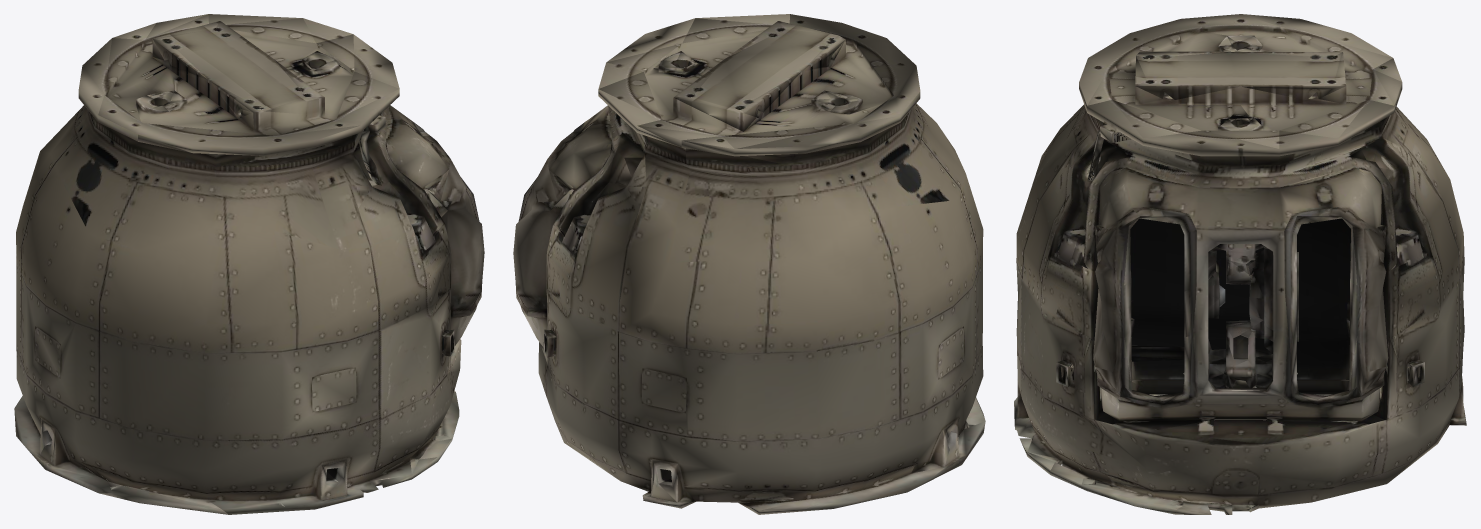
The model's file is chinturret_ng.glb.
3 views of the same model, side by side, from view 1: azimuth 30°, elevation 25°; view 2: azimuth 150°, elevation 25°; view 3: azimuth 270°, elevation 25° (orthographic).
Parts seen in each view (by area): view 1: tripo_node_9f9c3313-a062-41f5-8d3d-5fd84; view 2: tripo_node_9f9c3313-a062-41f5-8d3d-5fd84; view 3: tripo_node_9f9c3313-a062-41f5-8d3d-5fd84.
Boxes of the visible parts, x1=… form: tripo_node_9f9c3313-a062-41f5-8d3d-5fd84: x1=14, y1=14, x2=484, y2=514; tripo_node_9f9c3313-a062-41f5-8d3d-5fd84: x1=513, y1=14, x2=985, y2=514; tripo_node_9f9c3313-a062-41f5-8d3d-5fd84: x1=1014, y1=14, x2=1466, y2=514.
Bounding box in the file's own units: 0.999 × 0.8606 × 0.9951.
Materials: 1 (1 with a texture image).
